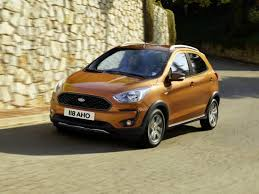Ford: (47, 40, 221, 147)
